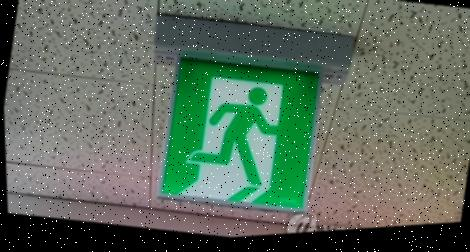emergency_exit: (156, 50, 323, 215)
